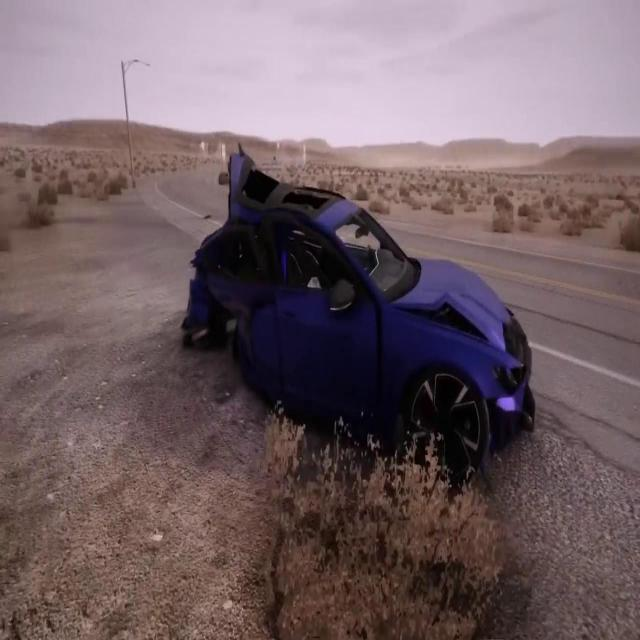accident: (177, 152, 539, 480)
